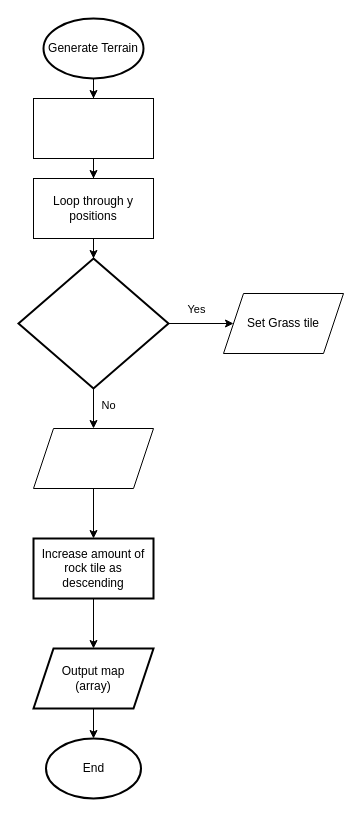
Some shapes in this 361 by 816 pixel diagram are drawn without their labels. The box of each missing label's shape, as (x1, y1, x2, y2) in pixels:
Is the position on the surface?: (17, 257, 169, 389)
Loop through x positions: (32, 98, 154, 158)
Set Dirt or Rock tile: (32, 428, 154, 488)
